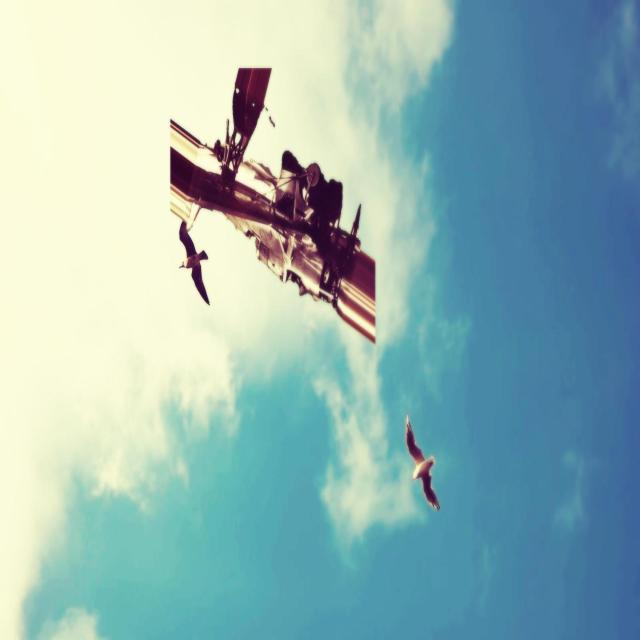airplane: (169, 65, 376, 344)
